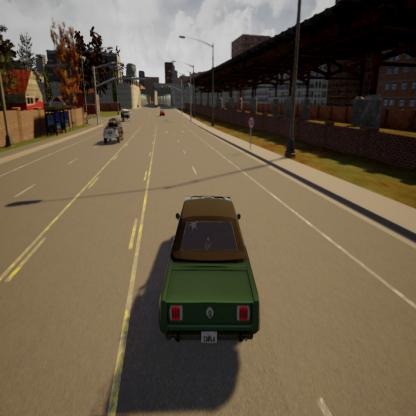Cars: (157, 175, 264, 355), (102, 114, 125, 146), (118, 106, 131, 123), (159, 108, 166, 118)
